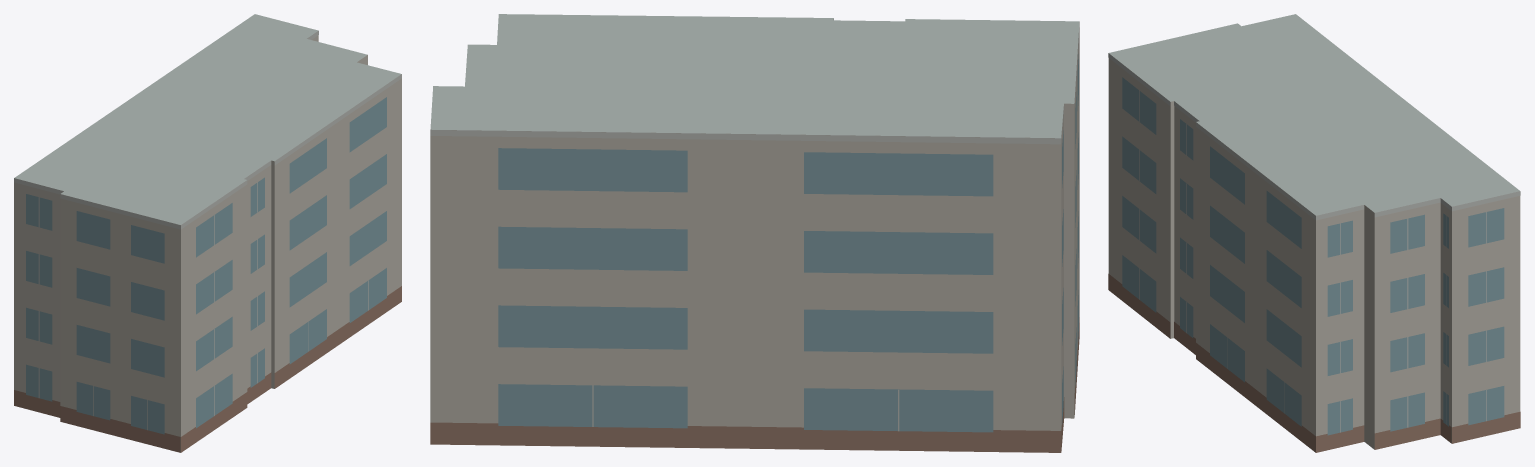
File: survey-upis-32656264.glb
The picture shows the model from 3 angles, left to right: view 1: azimuth 30°, elevation 25°; view 2: azimuth 150°, elevation 25°; view 3: azimuth 270°, elevation 25°; orthographic projection. The views are drawn at different scales.
Parts seen in each view (by area): view 1: survey-upis-32656264.tmp; view 2: survey-upis-32656264.tmp; view 3: survey-upis-32656264.tmp.
Part boxes in pixels (x1,y1,x2,y2): survey-upis-32656264.tmp: (14,14,401,452); survey-upis-32656264.tmp: (430,14,1079,452); survey-upis-32656264.tmp: (1108,14,1520,452).
Size of the model in its own units: 23.02 by 12.6 by 19.85.
